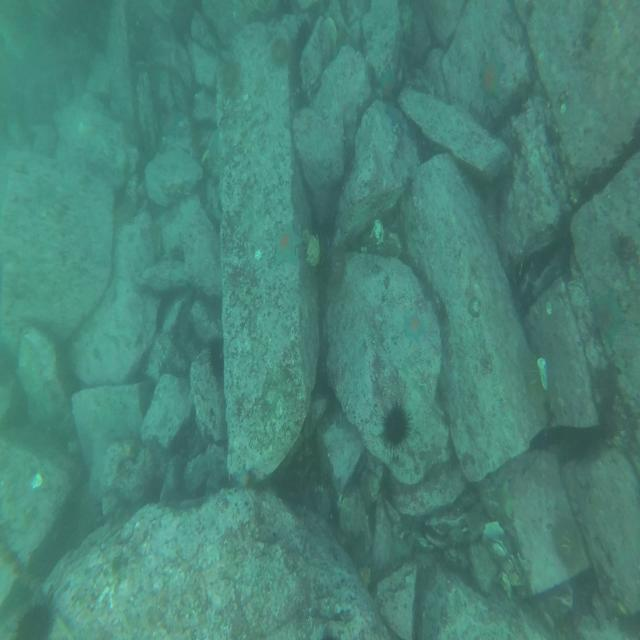echinus: (554, 517, 584, 573), (10, 605, 53, 640), (384, 407, 410, 451), (269, 36, 289, 73), (295, 21, 311, 55), (222, 56, 238, 88)
scallop: (302, 236, 326, 271)
starfish: (271, 220, 301, 268), (478, 51, 506, 101)
